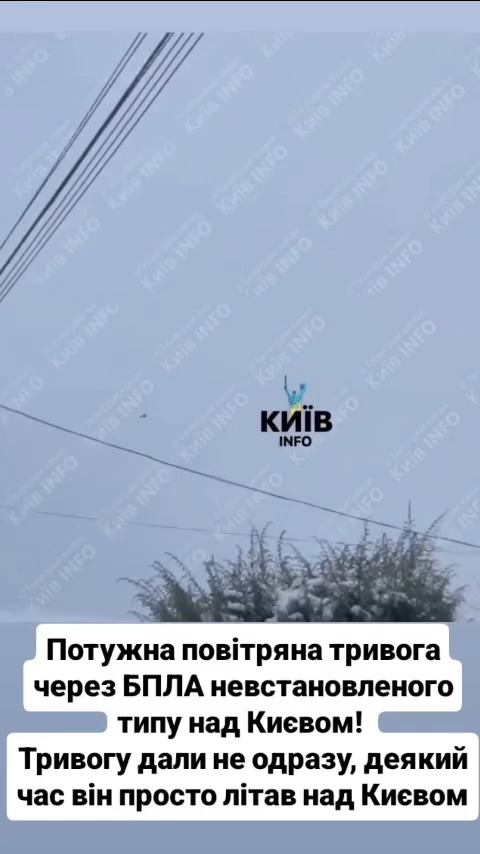shahed: (135, 411, 154, 422)
